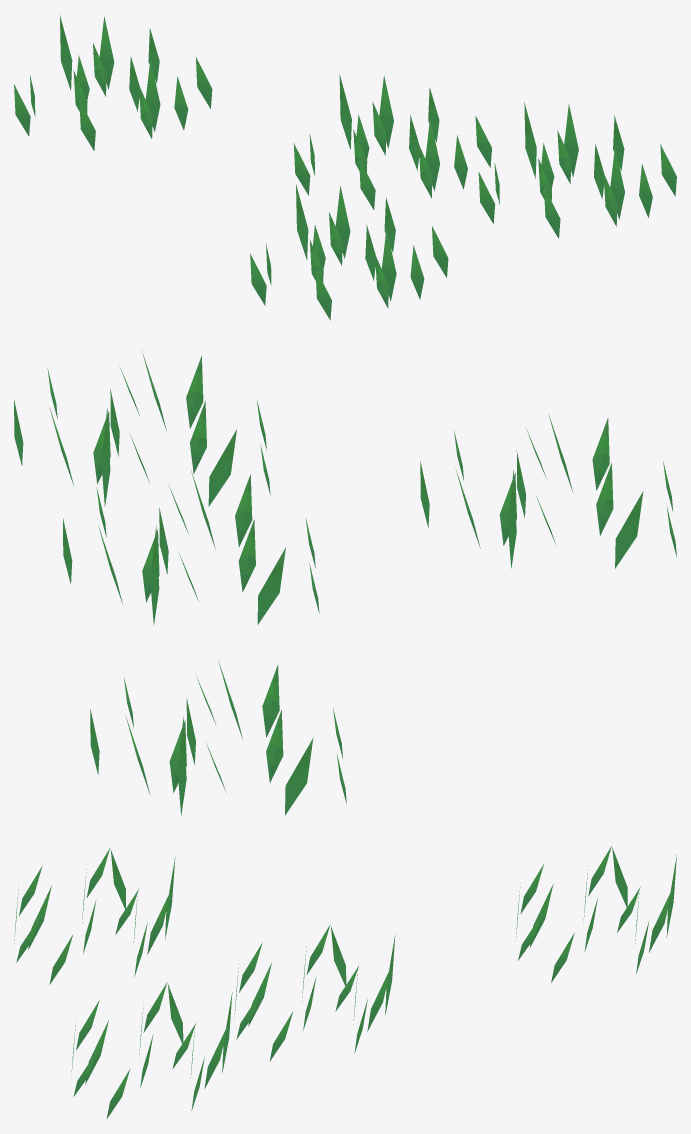
File: objects_un_c01main_grass03.gltf
3 renders of one model, top to bottom at view 1: azimuth 30°, elevation 25°; view 2: azimuth 150°, elevation 25°; view 3: azimuth 270°, elevation 25°, orthographic. The views are drawn at different scales.
Visible parts, largest first — view 1: objects_un_c01main_grass03_mesh_shape:objects_un_c01main_gra; view 2: objects_un_c01main_grass03_mesh_shape:objects_un_c01main_gra; view 3: objects_un_c01main_grass03_mesh_shape:objects_un_c01main_gra.
Boxes of the visible parts, left/top/right/bottom form: objects_un_c01main_grass03_mesh_shape:objects_un_c01main_gra: left=14, top=15, right=676, bottom=320; objects_un_c01main_grass03_mesh_shape:objects_un_c01main_gra: left=14, top=351, right=676, bottom=815; objects_un_c01main_grass03_mesh_shape:objects_un_c01main_gra: left=14, top=846, right=676, bottom=1118.
Size of the model in its own units: 2.03 by 0.3383 by 2.49.
Materials: 1 (1 with a texture image).
